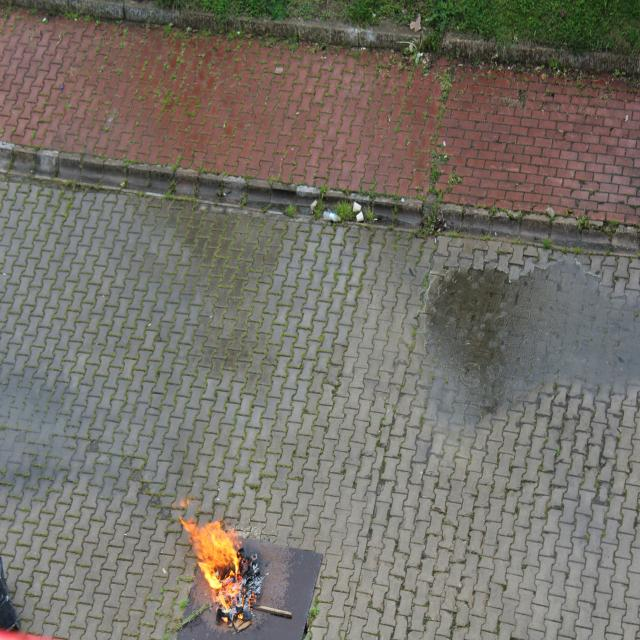fire: (181, 515, 246, 604)
